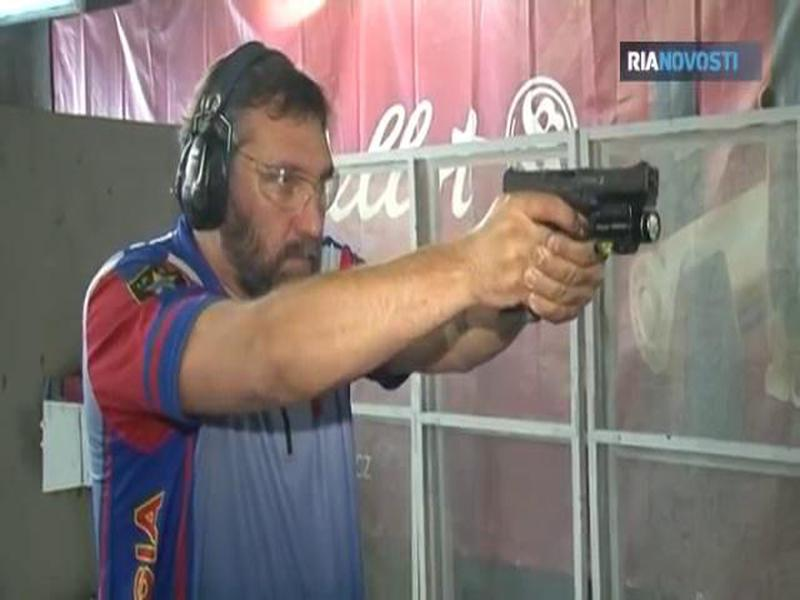Pistola: (476, 148, 676, 334)
